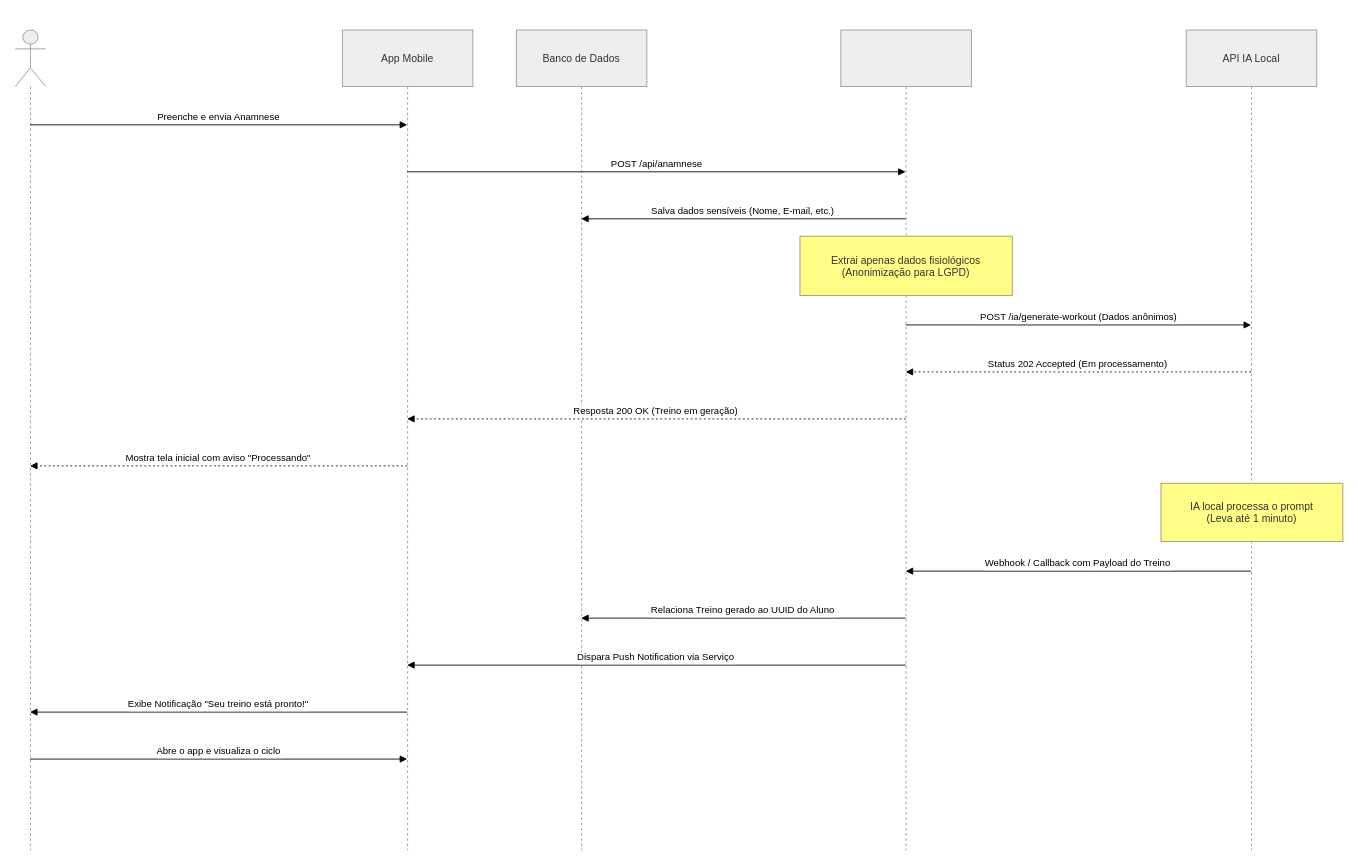
The diagram is 1358 pixels wide and 866 high, and some of its shapes have lost their labels. The shapes that lost their labels are listed below. From the top down, each one's box as (x1, y1, x2, y2) in pixels, then its label:
(14, 29, 46, 850): Aluno
(840, 29, 971, 850): Backend (Node.js)
